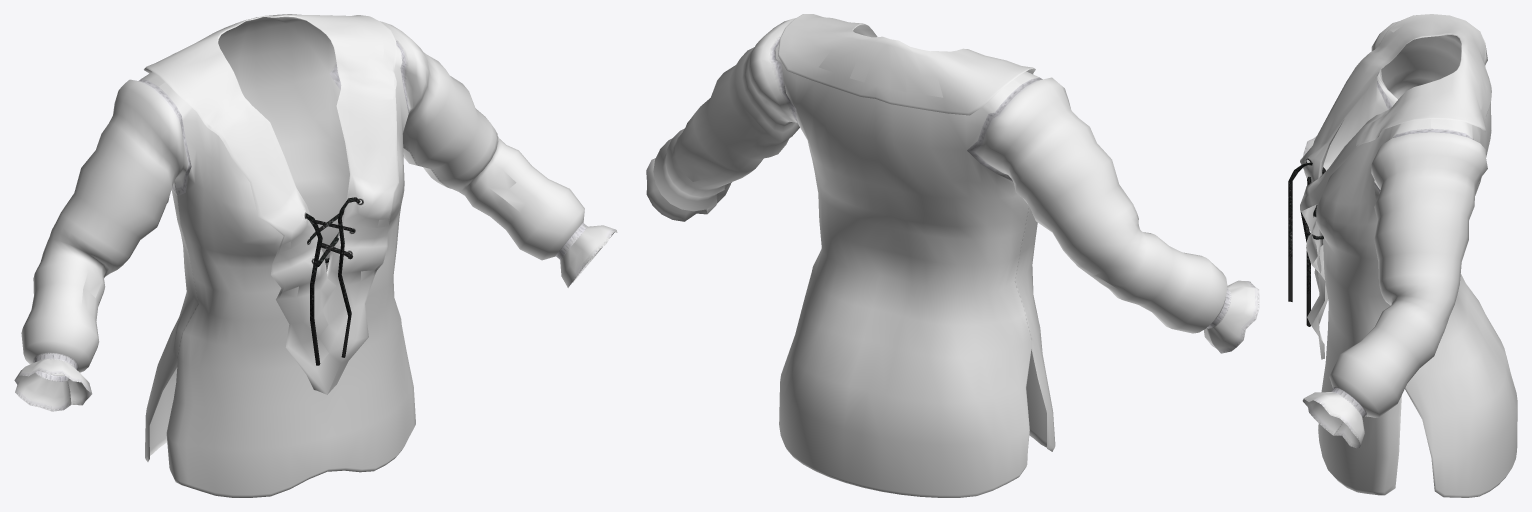
The model's file is punkduck-lace-up-blouse.glb.
The picture shows the model from 3 angles, left to right: view 1: azimuth 30°, elevation 25°; view 2: azimuth 150°, elevation 25°; view 3: azimuth 270°, elevation 25°; orthographic projection. The views are drawn at different scales.
Parts seen in each view (by area): view 1: lace up blouse; view 2: lace up blouse; view 3: lace up blouse.
Part boxes in pixels (left/top/right/bottom): lace up blouse: left=14, top=14, right=617, bottom=497; lace up blouse: left=646, top=14, right=1259, bottom=497; lace up blouse: left=1288, top=14, right=1517, bottom=497.
Size of the model in its own units: 92.81 by 62.32 by 31.89.
Materials: 1 (1 with a texture image).
